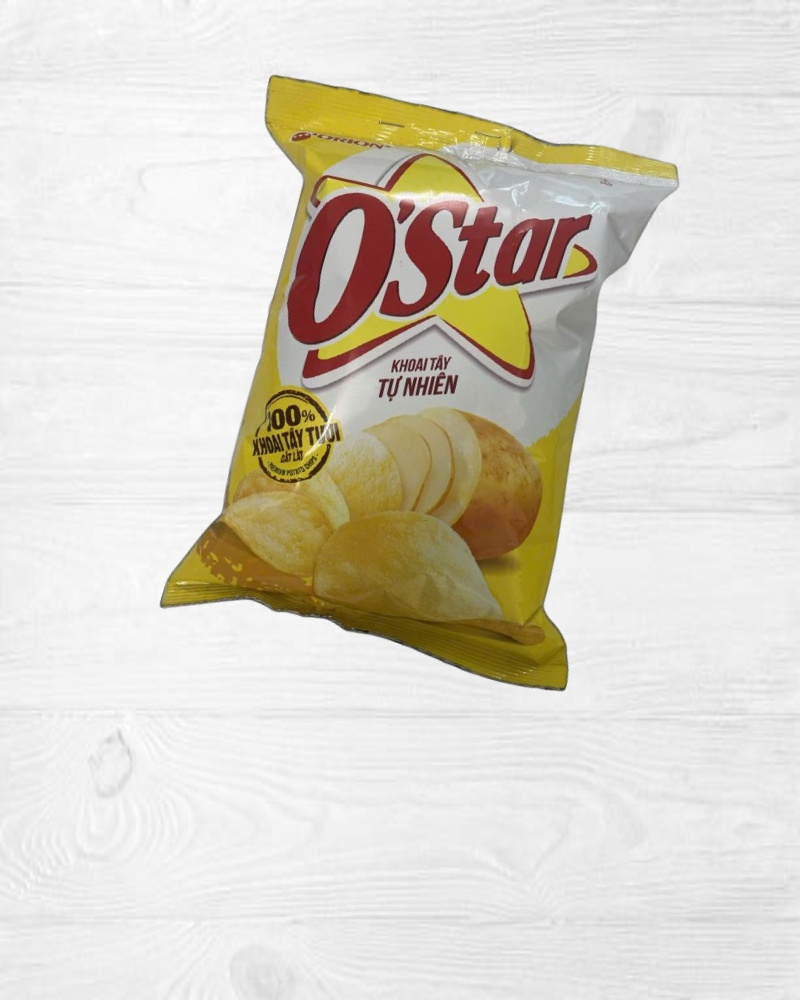O'star: (132, 58, 704, 714)
